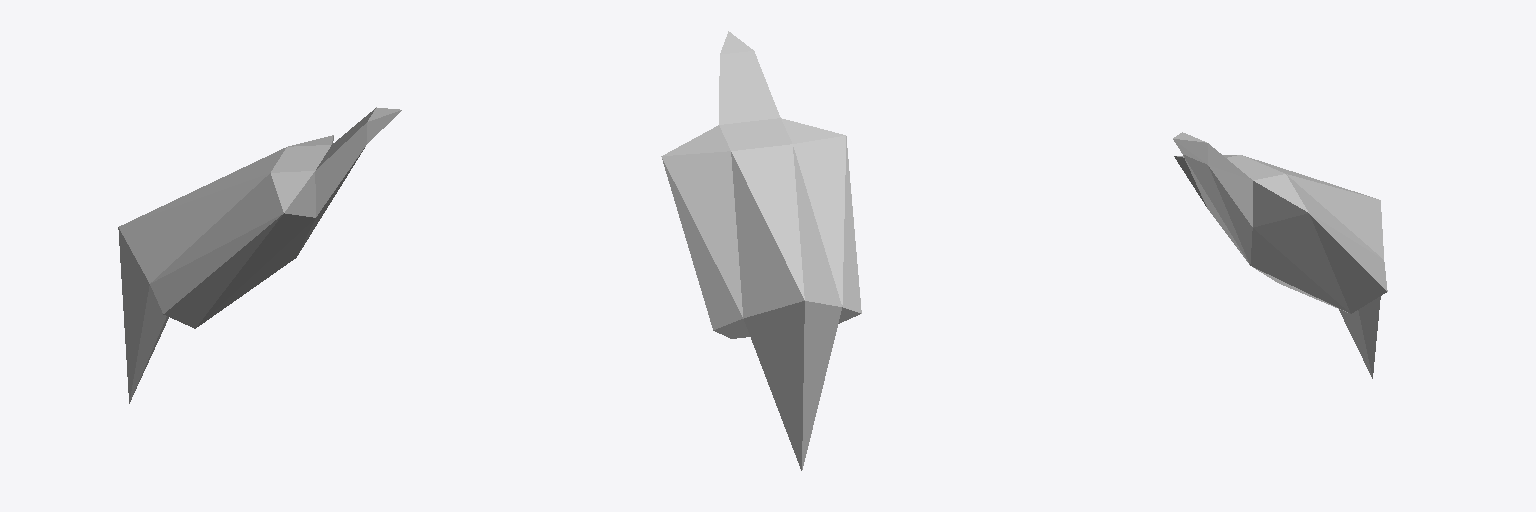
Rendered from rightrearcalf.obj.
The picture shows the model from 3 angles: view 1: azimuth 30°, elevation 25°; view 2: azimuth 150°, elevation 25°; view 3: azimuth 270°, elevation 25°; orthographic projection.
Visible parts, largest first — view 1: Box01_sep6; view 2: Box01_sep6; view 3: Box01_sep6.
Part boxes in pixels (x1,y1,x2,y2): Box01_sep6: (118, 107, 401, 403); Box01_sep6: (661, 31, 861, 470); Box01_sep6: (1173, 132, 1387, 378).
Bounding box in the file's own units: 2.15 × 3.58 × 2.15.